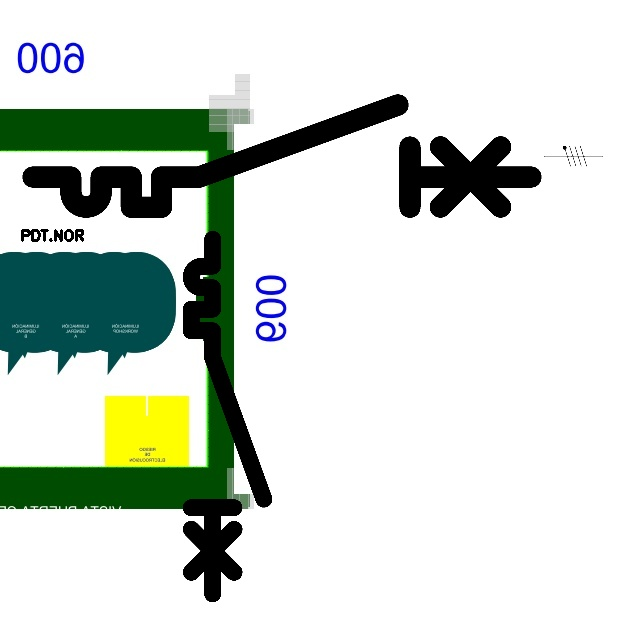interruptor_termomagnetico: (20, 92, 544, 220), (182, 230, 273, 603)
